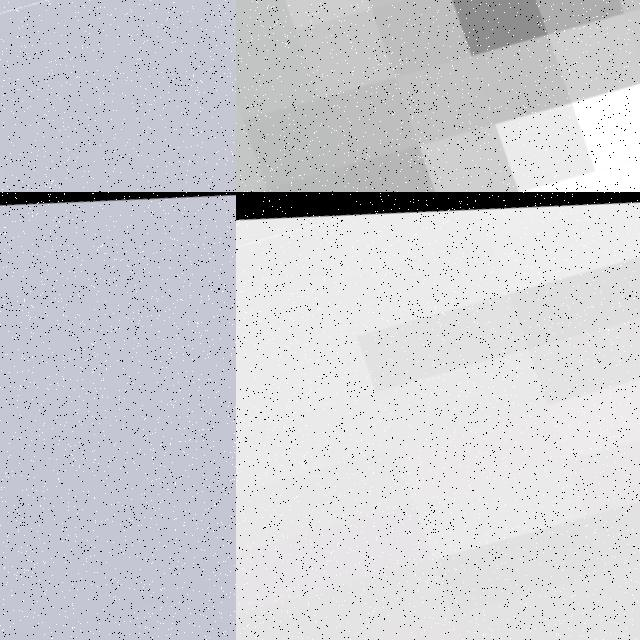drone: (236, 192, 640, 640), (0, 192, 236, 640), (236, 0, 640, 192), (0, 0, 236, 192)
